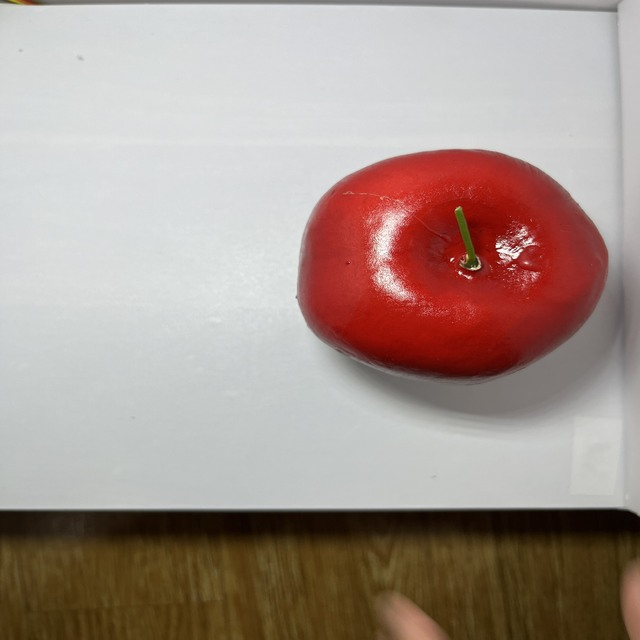Tao: (292, 145, 611, 396)
